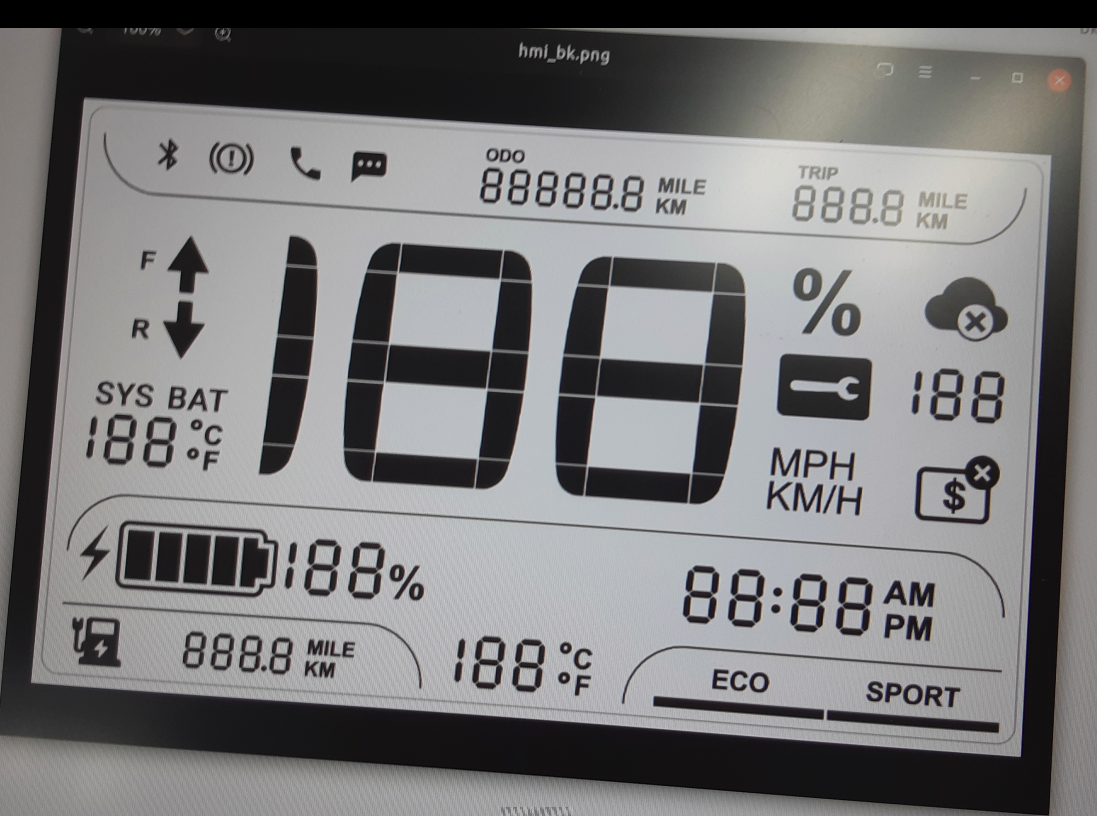bluetooth_on: (152, 134, 186, 173)
braking_on: (203, 137, 258, 180)
calling_on: (285, 140, 325, 185)
connection_lost: (921, 273, 1012, 345)
error_code: (772, 349, 876, 424)
low_battery: (68, 612, 126, 670)
sms_on: (345, 146, 391, 187)
vin_id: (910, 453, 1003, 528)
